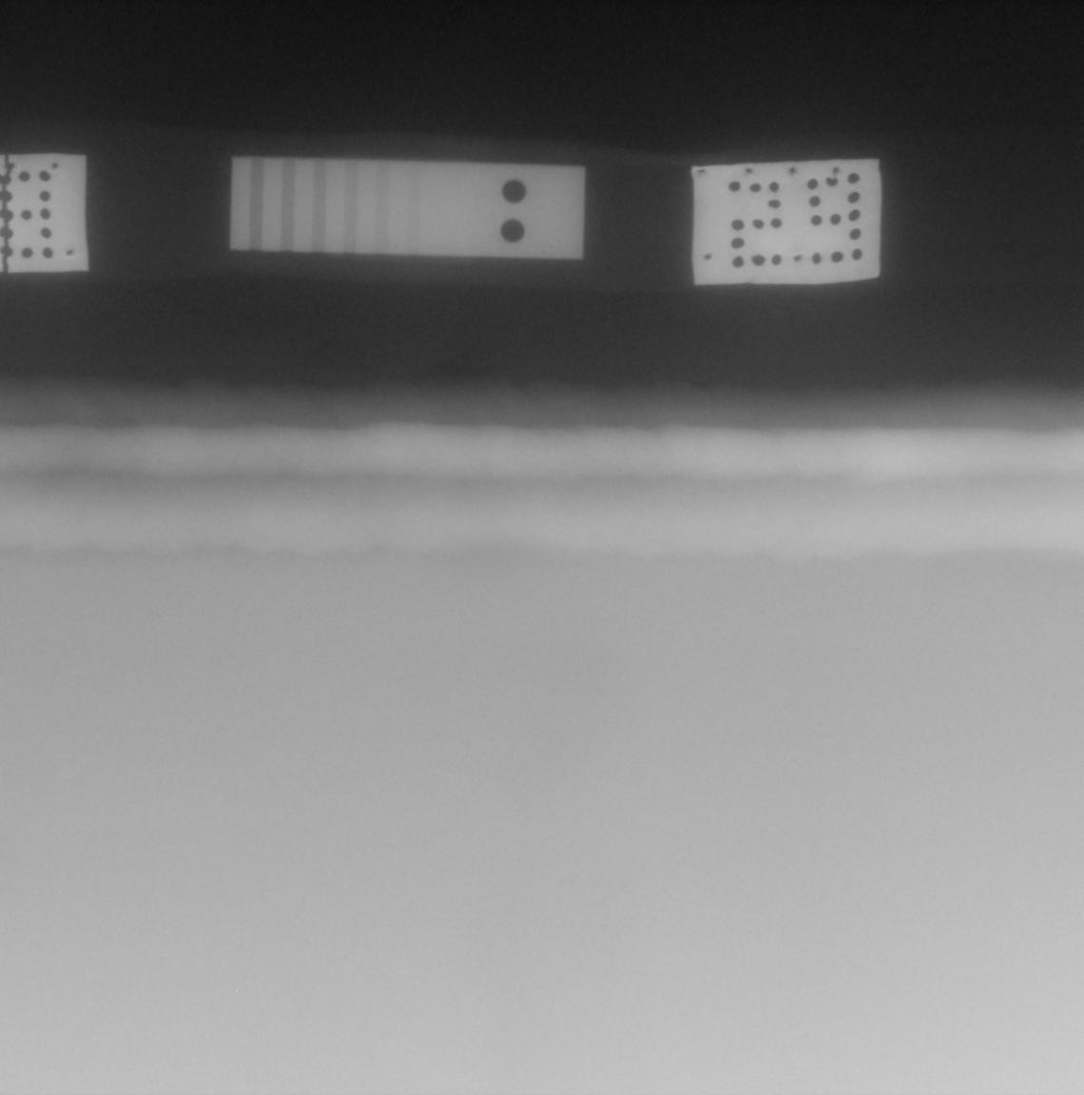Reference Standard 2: (229, 156, 586, 259)
